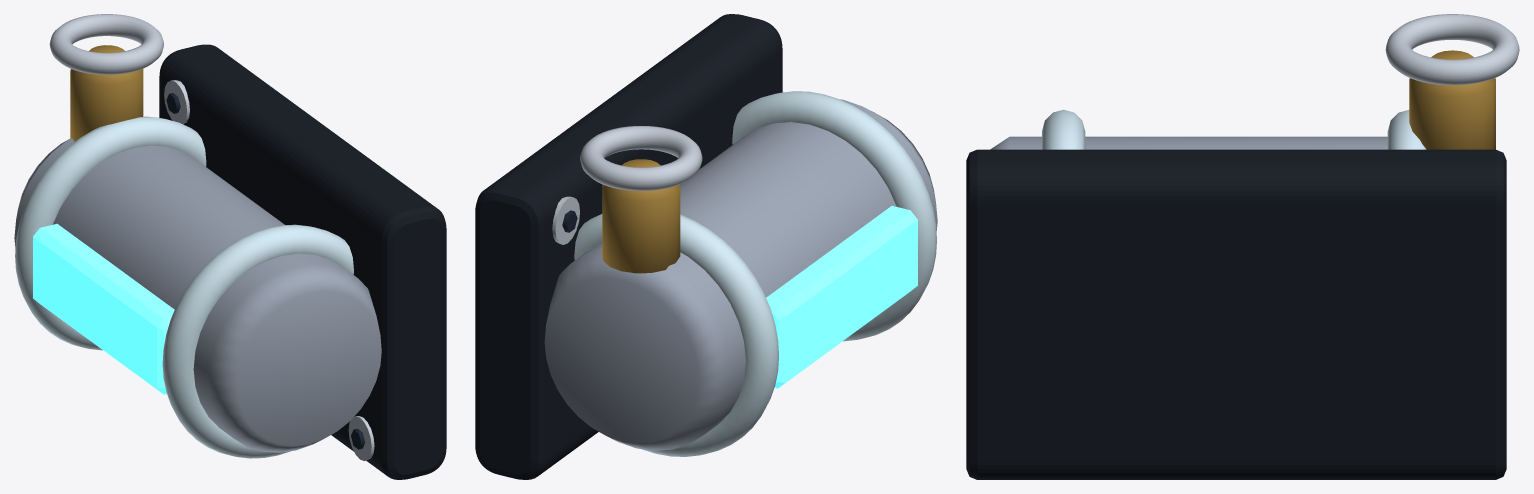
The model's file is attach_cryocell.glb.
3 views of the same model, side by side, from view 1: azimuth 30°, elevation 25°; view 2: azimuth 150°, elevation 25°; view 3: azimuth 270°, elevation 25° (orthographic). The views are drawn at different scales.
Visible parts, largest first — view 1: attach_cryocell_can, attach_cryocell_plate, attach_cryocell_window, attach_cryocell_rime0.016, attach_cryocell_rime-0.016, attach_cryocell_valve_wheel, attach_cryocell_valve, attach_cryocell_screws; view 2: attach_cryocell_can, attach_cryocell_plate, attach_cryocell_window, attach_cryocell_rime0.016, attach_cryocell_rime-0.016, attach_cryocell_valve, attach_cryocell_valve_wheel, attach_cryocell_screws; view 3: attach_cryocell_plate, attach_cryocell_valve_wheel, attach_cryocell_valve, attach_cryocell_can, attach_cryocell_rime0.016, attach_cryocell_rime-0.016.
Part boxes in pixels (x1,y1,x2,y2): attach_cryocell_can: (14,138,381,452); attach_cryocell_plate: (159,44,446,479); attach_cryocell_window: (33,223,174,394); attach_cryocell_rime0.016: (162,224,353,458); attach_cryocell_rime-0.016: (15,116,206,350); attach_cryocell_valve_wheel: (49,14,163,74); attach_cryocell_valve: (70,45,143,141); attach_cryocell_screws: (164,80,374,460); attach_cryocell_can: (544,99,937,450); attach_cryocell_plate: (475,14,782,479); attach_cryocell_window: (766,206,917,388); attach_cryocell_rime0.016: (732,91,936,341); attach_cryocell_rime-0.016: (574,214,778,456); attach_cryocell_valve: (602,159,680,273); attach_cryocell_valve_wheel: (580,126,702,190); attach_cryocell_screws: (552,196,579,244); attach_cryocell_plate: (966,149,1506,479); attach_cryocell_valve_wheel: (1385,14,1519,85); attach_cryocell_valve: (1409,50,1495,149); attach_cryocell_can: (990,136,1387,149); attach_cryocell_rime0.016: (1042,109,1085,149); attach_cryocell_rime-0.016: (1387,110,1426,149).
Bounding box in the file's own units: 0.0305 × 0.0382 × 0.0512.
